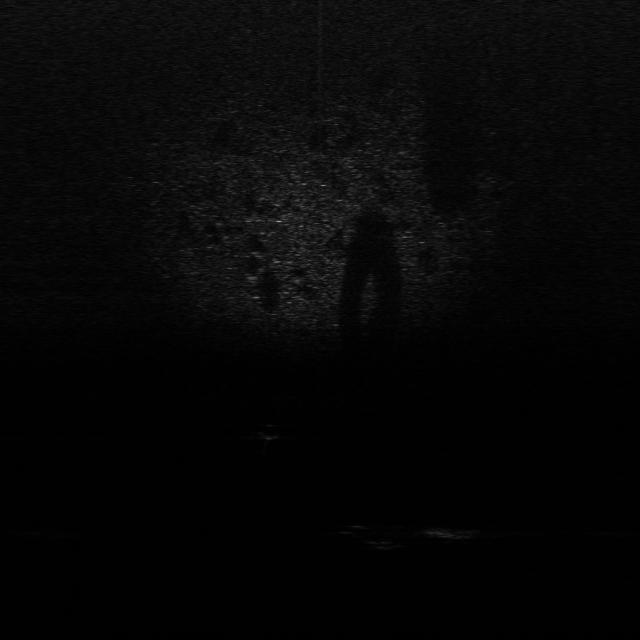ball: (252, 423, 282, 441)
metal bucket: (421, 518, 487, 546)
tyre: (344, 519, 404, 551)
